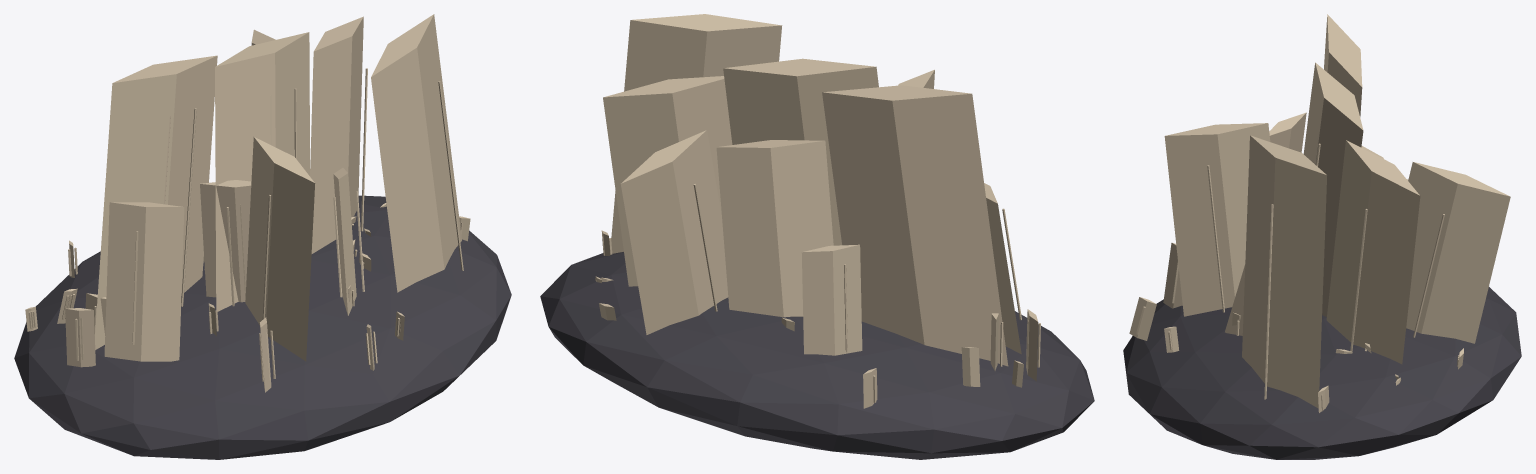
Rendered from barite.glb.
3 renders of one model, left to right at view 1: azimuth 30°, elevation 25°; view 2: azimuth 150°, elevation 25°; view 3: azimuth 270°, elevation 25°, orthographic. The views are drawn at different scales.
Parts seen in each view (by area): view 1: Barite; view 2: Barite; view 3: Barite.
Boxes of the visible parts, bbox=[...] form: Barite: bbox=[14, 14, 511, 459]; Barite: bbox=[540, 14, 1094, 459]; Barite: bbox=[1123, 14, 1521, 459].
Size of the model in its own units: 3.96 by 2.75 by 3.03.
